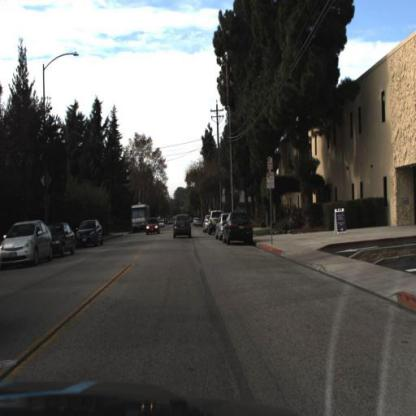car: (1, 221, 54, 270), (50, 221, 79, 261), (222, 213, 256, 245), (76, 218, 104, 248), (173, 212, 194, 239)
truck: (129, 200, 153, 234)
